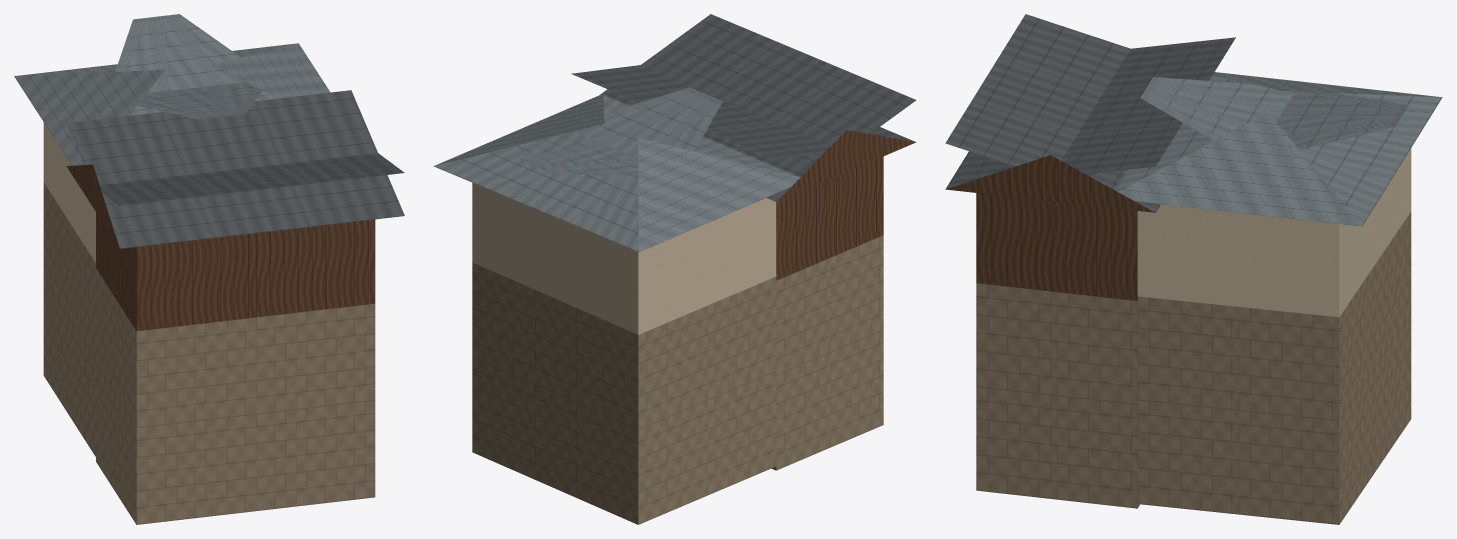
Rendered from bld_c9_27_401.gltf.
3 renders of one model, left to right at view 1: azimuth 30°, elevation 25°; view 2: azimuth 150°, elevation 25°; view 3: azimuth 270°, elevation 25°, orthographic. The views are drawn at different scales.
Visible parts, largest first — view 1: bld_c9_27_401; view 2: bld_c9_27_401; view 3: bld_c9_27_401.
Boxes of the visible parts, x1,y1,x2,y2 form: bld_c9_27_401: (14, 14, 404, 524); bld_c9_27_401: (433, 14, 916, 524); bld_c9_27_401: (945, 14, 1442, 524).
Size of the model in its own units: 8.17 by 7.9 by 9.78.
6 materials, 6 textured.
